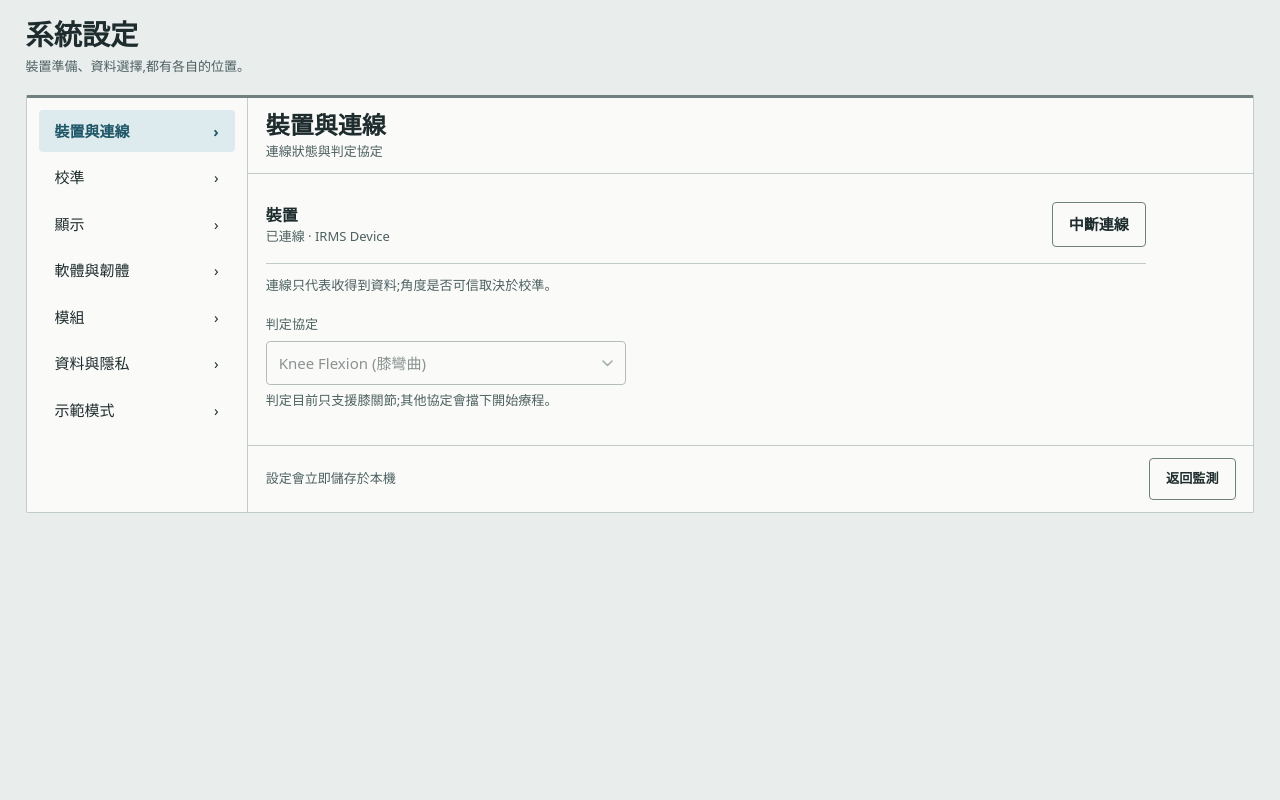
SettingsView 韌體 OTA 面板:連線態閘門 › Session 進行中時顯示鎖定原因
This screenshot has width=1280, height=800.
Click the button "軟體與韌體 ›": (137, 270) [39, 249, 235, 292]
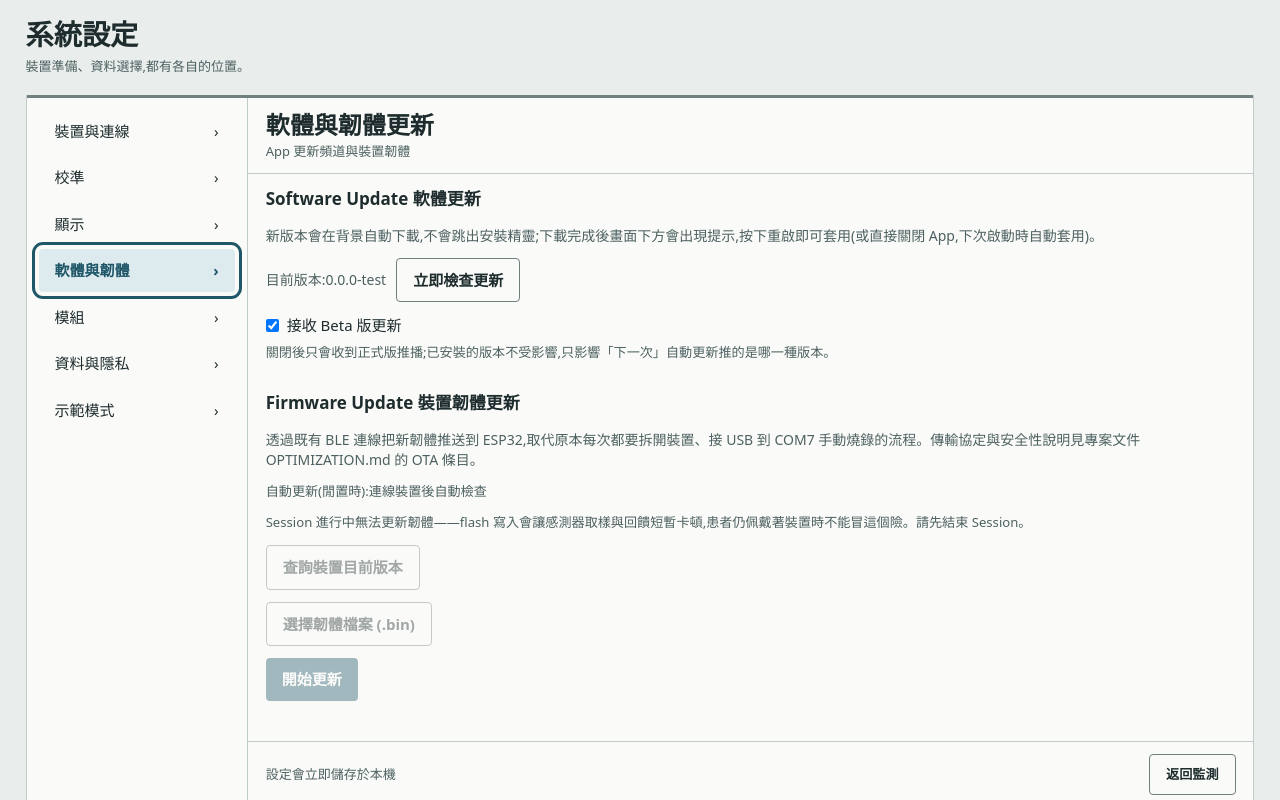
Expected: the text "Session 進行中無法更新韌體" is shown, [266, 513, 1032, 531]
